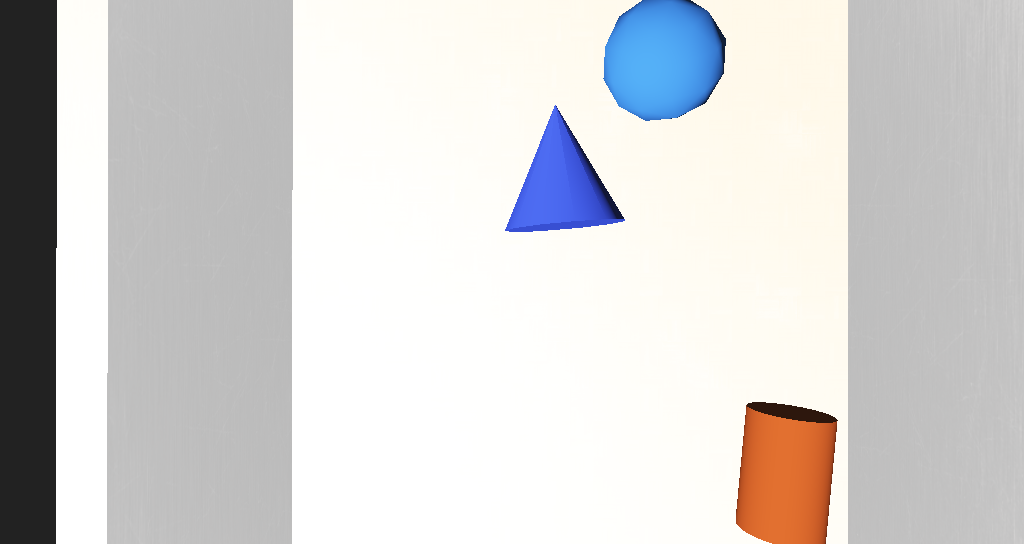cone: (589, 317, 650, 370)
cylinder: (465, 203, 532, 255)
sphere: (522, 169, 583, 212)
